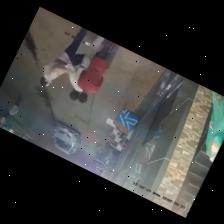person: (39, 27, 86, 85), (77, 39, 118, 102), (66, 35, 103, 99), (7, 95, 21, 115), (0, 110, 7, 123)
